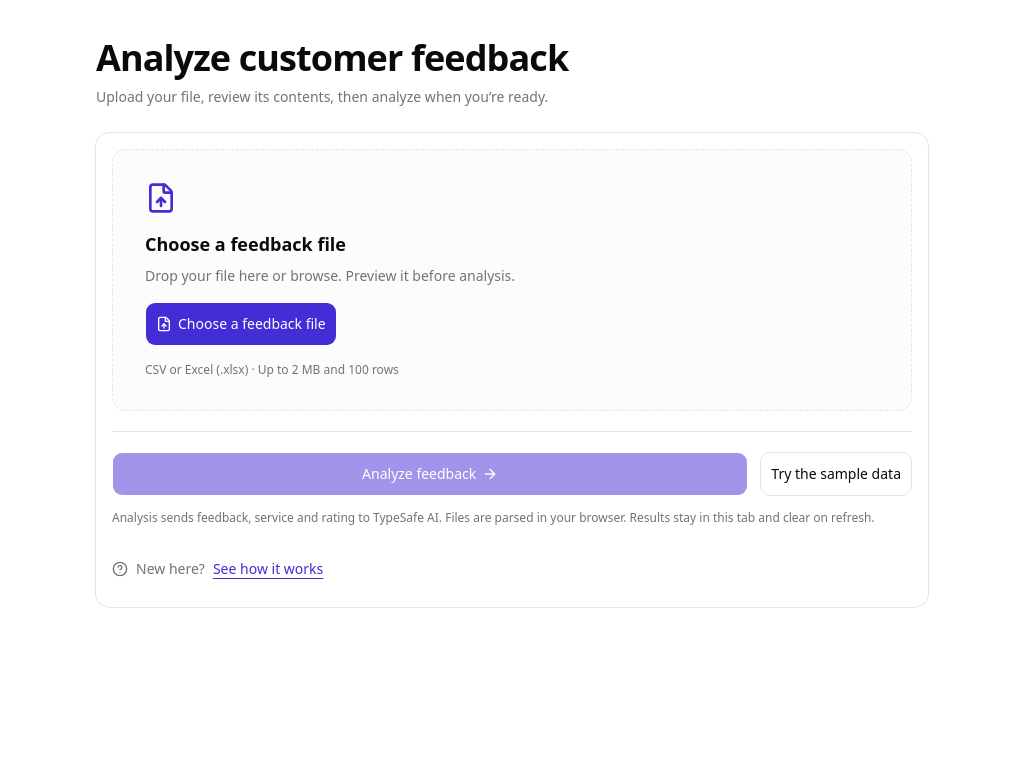
upload and analysis workflow › keeps quota-blocked rows pending, preserves successes and disables resume until reset
Click the button "Try the sample data". click: [836, 474]
box: [760,452,912,496]
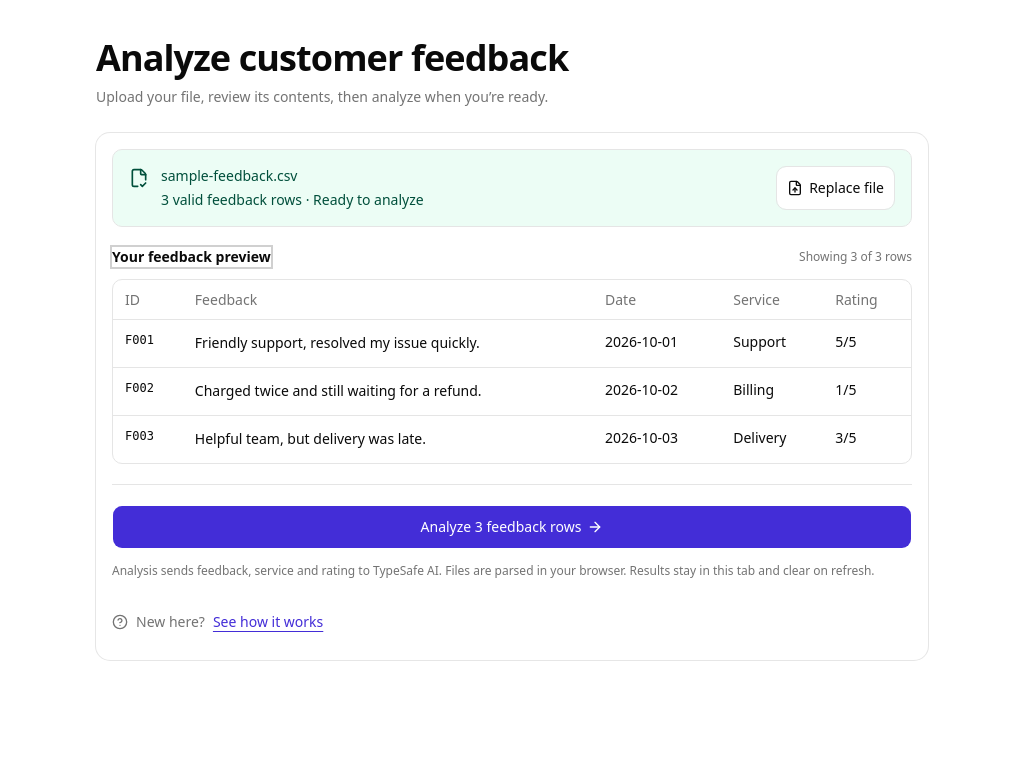
Result: the heading "Your feedback preview" is shown at [112,247,271,267]
Click the button "Analyze 3 feedback rows". click: [512, 526]
box: [112,504,912,548]
(page scrolled)
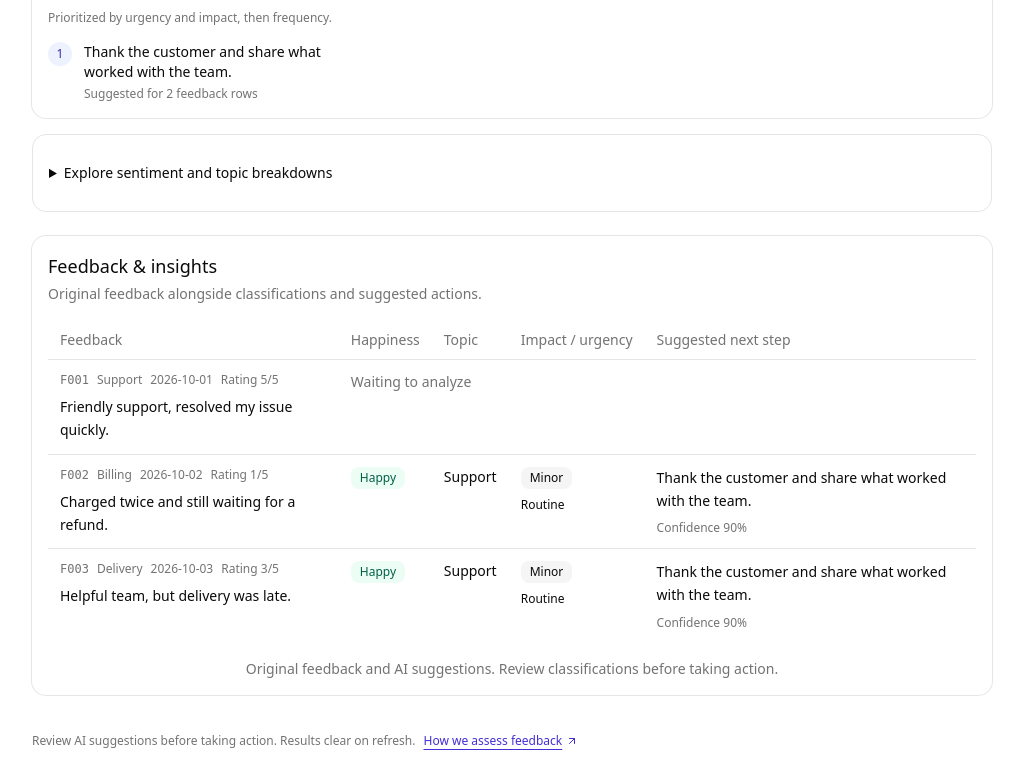
Result: the text "Happy" is shown 2 times at [351,467,405,489]; [351,561,405,583]
Result: the text "Waiting to analyze" is shown at [351,372,471,391]
